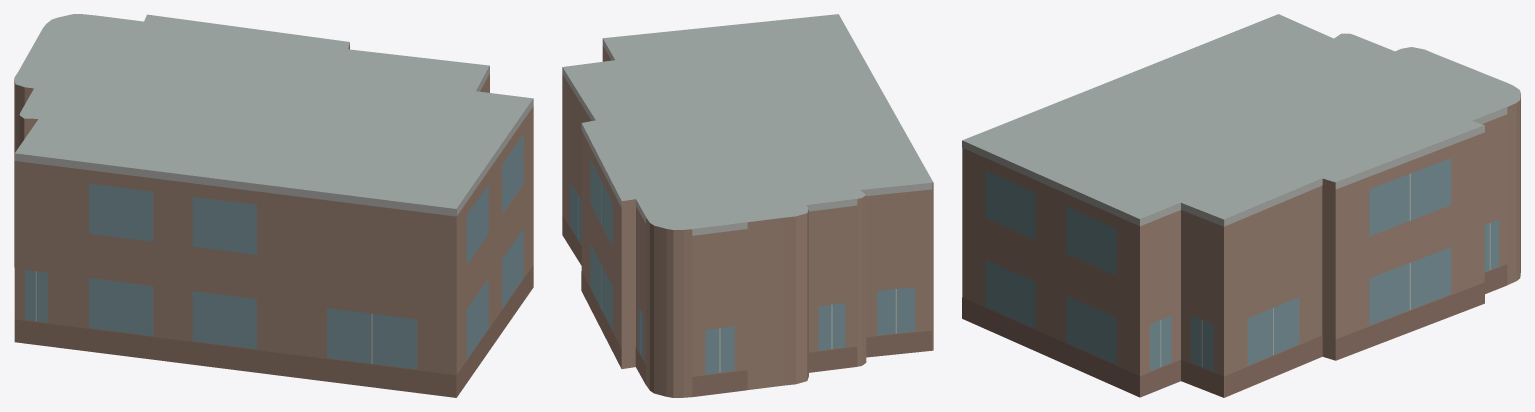
File: survey-upis-32466466.glb
3 views of the same model, side by side, from view 1: azimuth 30°, elevation 25°; view 2: azimuth 150°, elevation 25°; view 3: azimuth 270°, elevation 25° (orthographic). The views are drawn at different scales.
Parts seen in each view (by area): view 1: survey-upis-32466466.tmp; view 2: survey-upis-32466466.tmp; view 3: survey-upis-32466466.tmp.
Boxes of the visible parts, x1,y1,x2,y2 form: survey-upis-32466466.tmp: [14, 14, 533, 397]; survey-upis-32466466.tmp: [562, 14, 933, 397]; survey-upis-32466466.tmp: [962, 14, 1520, 397].
Size of the model in its own units: 15.09 by 6.1 by 17.33.
